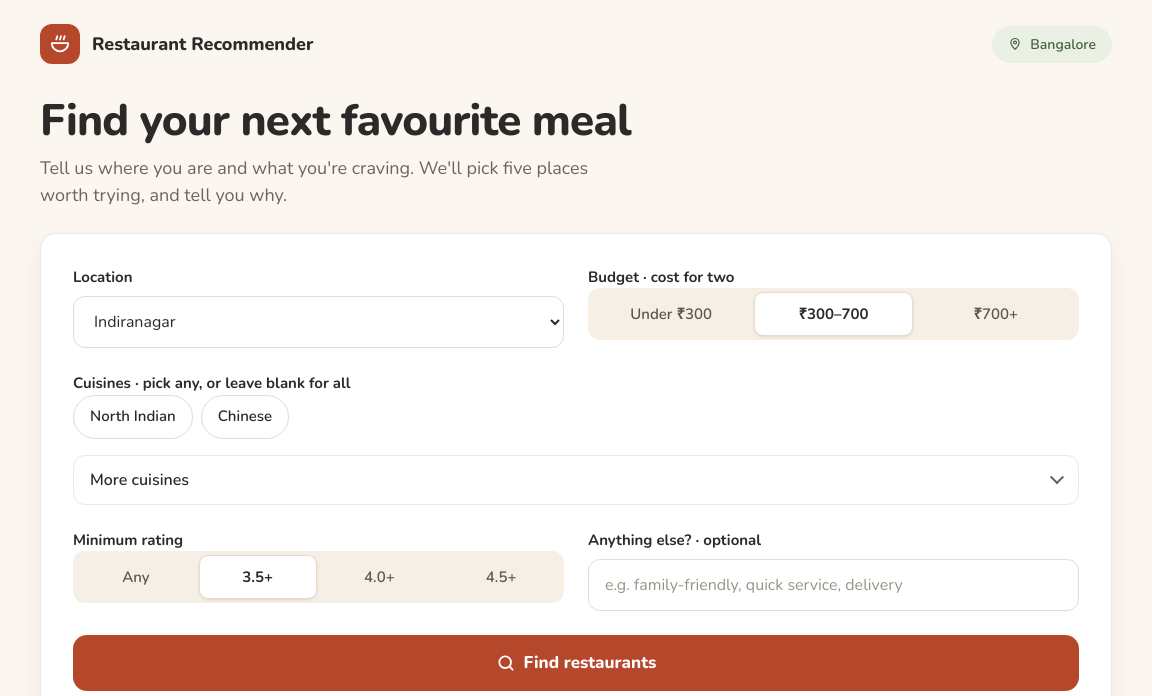
it: Recommender › sends the selected cuisines
Click the button "Chinese".
click(245, 417)  # box [201, 395, 289, 439]
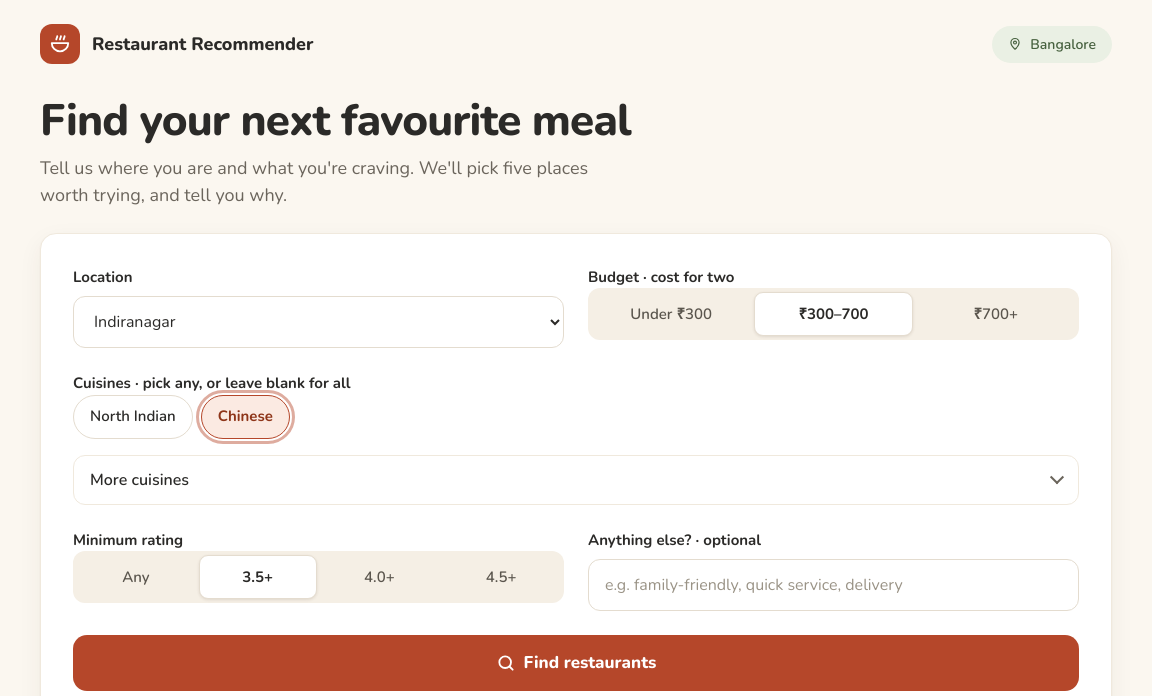
Click the heading "More cuisines".
click(140, 480)  # box [90, 469, 189, 491]
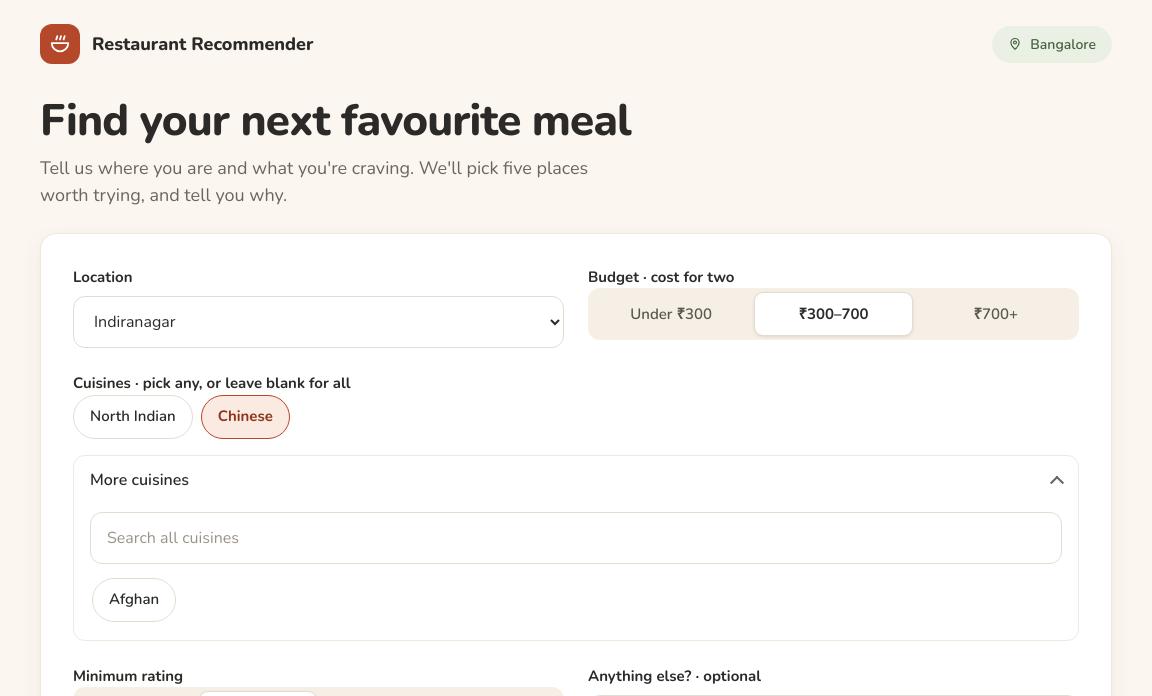
Click the button "Afghan".
click(134, 600)  # box [92, 578, 176, 622]
(page scrolled)
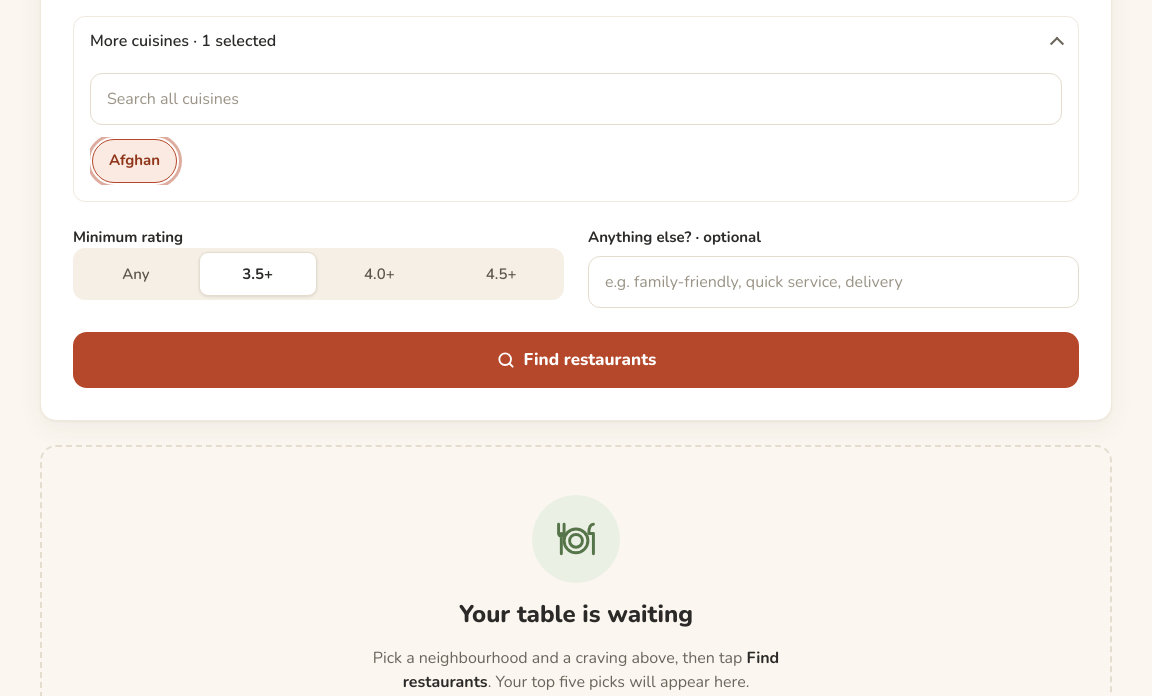
Click the button "Find restaurants".
click(576, 360)  # box [73, 332, 1079, 388]
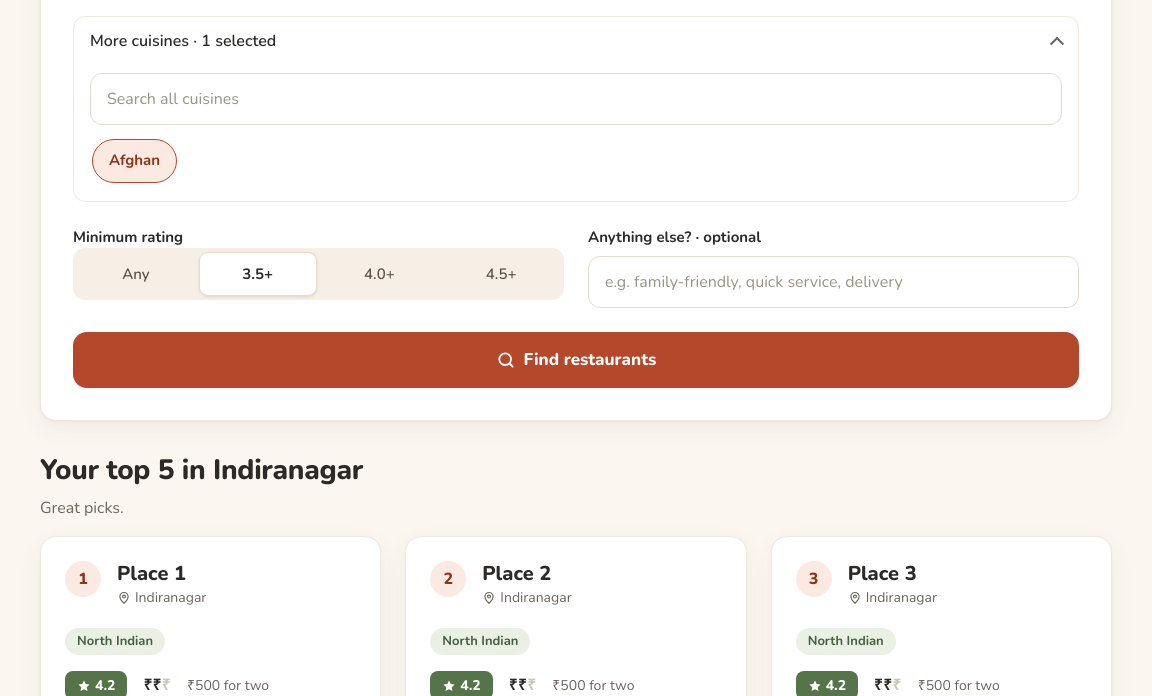
Check: the heading "Place 1" is shown, box [117, 560, 186, 587]
